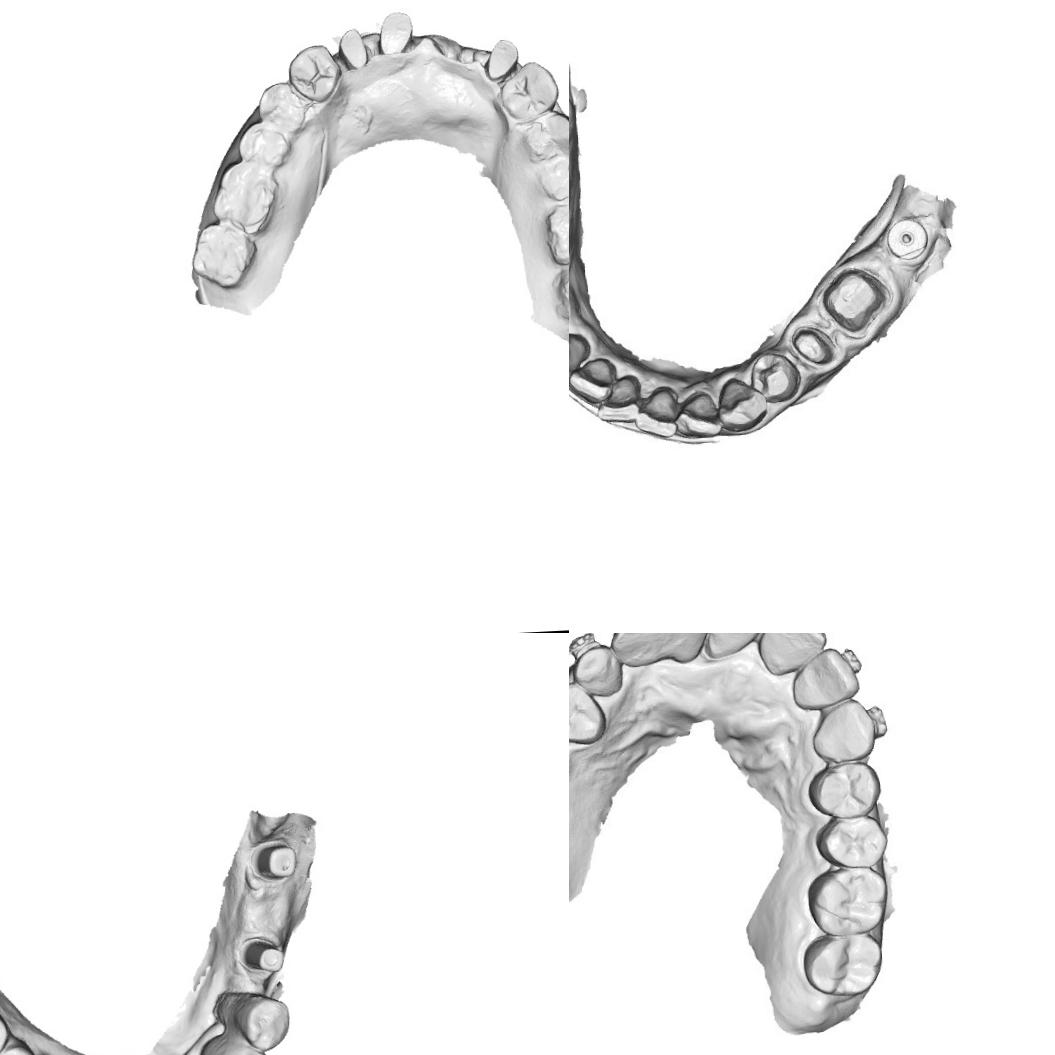abutment: (236, 932, 288, 976), (252, 837, 300, 883)
canine: (496, 58, 562, 125), (808, 698, 873, 764), (284, 42, 344, 106), (570, 642, 624, 700), (721, 378, 767, 425), (205, 1037, 270, 1055), (569, 330, 586, 382)
crown: (824, 262, 888, 330), (372, 6, 426, 71), (331, 17, 373, 77), (480, 34, 527, 87), (793, 328, 834, 367)
implant: (883, 212, 928, 265)
incisor: (790, 652, 854, 703), (759, 633, 825, 673), (676, 390, 722, 438), (594, 376, 639, 420), (611, 633, 671, 666), (571, 354, 618, 396), (634, 386, 676, 432), (708, 633, 768, 651), (665, 633, 709, 655)
molar: (208, 158, 282, 236), (801, 932, 885, 999), (808, 864, 888, 934), (188, 219, 260, 290), (545, 194, 569, 268), (552, 261, 569, 324)
premolar: (804, 760, 882, 820), (812, 814, 892, 872), (228, 992, 292, 1054), (254, 78, 310, 135), (522, 107, 569, 168), (238, 117, 294, 165), (750, 356, 798, 403), (569, 680, 604, 737), (534, 150, 569, 204)
